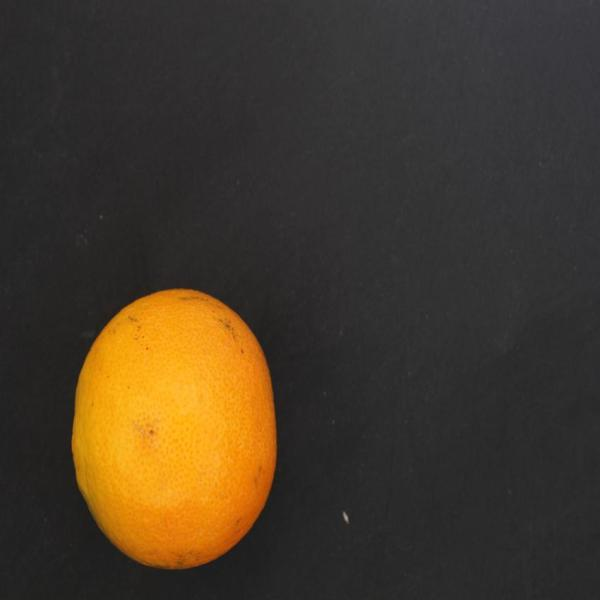Sana: (65, 276, 286, 574)
